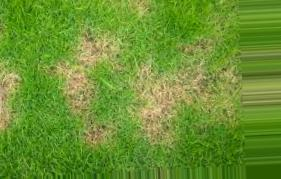patch: (156, 94, 174, 114), (143, 114, 161, 128), (2, 107, 15, 126), (68, 79, 83, 94), (92, 44, 103, 56), (176, 83, 186, 94), (3, 81, 13, 91), (144, 98, 151, 108)
